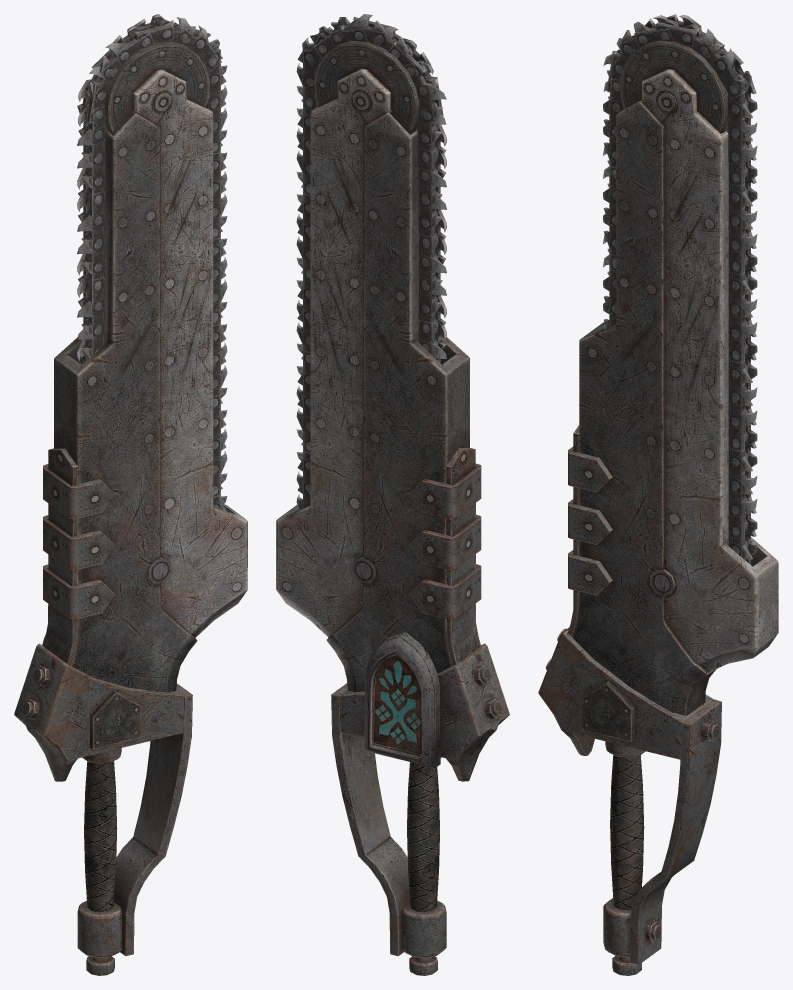
File: bs_sou003.obj
3 views of the same model, side by side, from view 1: azimuth 30°, elevation 25°; view 2: azimuth 150°, elevation 25°; view 3: azimuth 330°, elevation 25° (orthographic). The views are drawn at different scales.
Parts seen in each view (by area): view 1: bs_sou003_000_LOD_1, bs_sou003_001_LOD_1, bs_sou003_002_LOD_1; view 2: bs_sou003_000_LOD_1, bs_sou003_001_LOD_1, bs_sou003_002_LOD_1; view 3: bs_sou003_000_LOD_1, bs_sou003_002_LOD_1, bs_sou003_001_LOD_1.
Boxes of the visible parts, x1,y1,x2,y2 form: bs_sou003_000_LOD_1: [14, 41, 247, 975]; bs_sou003_001_LOD_1: [77, 14, 227, 504]; bs_sou003_002_LOD_1: [77, 17, 227, 510]; bs_sou003_000_LOD_1: [276, 41, 509, 975]; bs_sou003_001_LOD_1: [296, 14, 446, 509]; bs_sou003_002_LOD_1: [296, 17, 446, 496]; bs_sou003_000_LOD_1: [538, 40, 778, 975]; bs_sou003_002_LOD_1: [603, 15, 757, 566]; bs_sou003_001_LOD_1: [603, 14, 757, 559].
Size of the model in its own units: 25.87 by 108 by 9.83.
